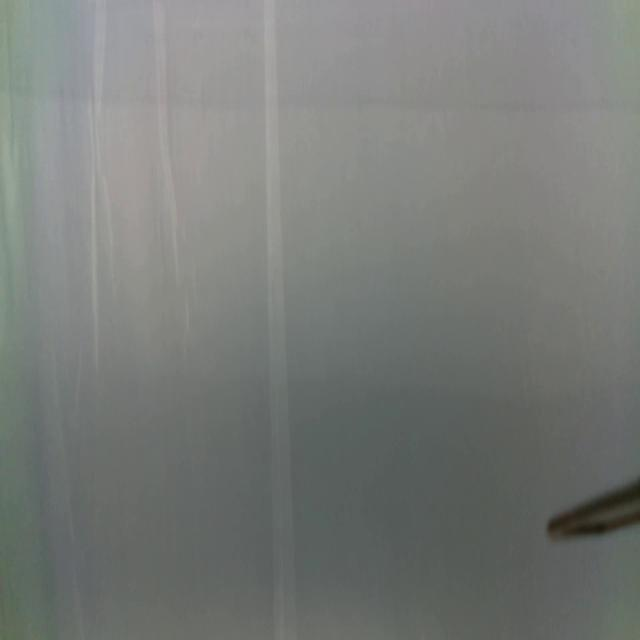color bleeding: (1, 79, 640, 416)
crease: (263, 0, 300, 640), (150, 0, 181, 267), (87, 0, 109, 374)
